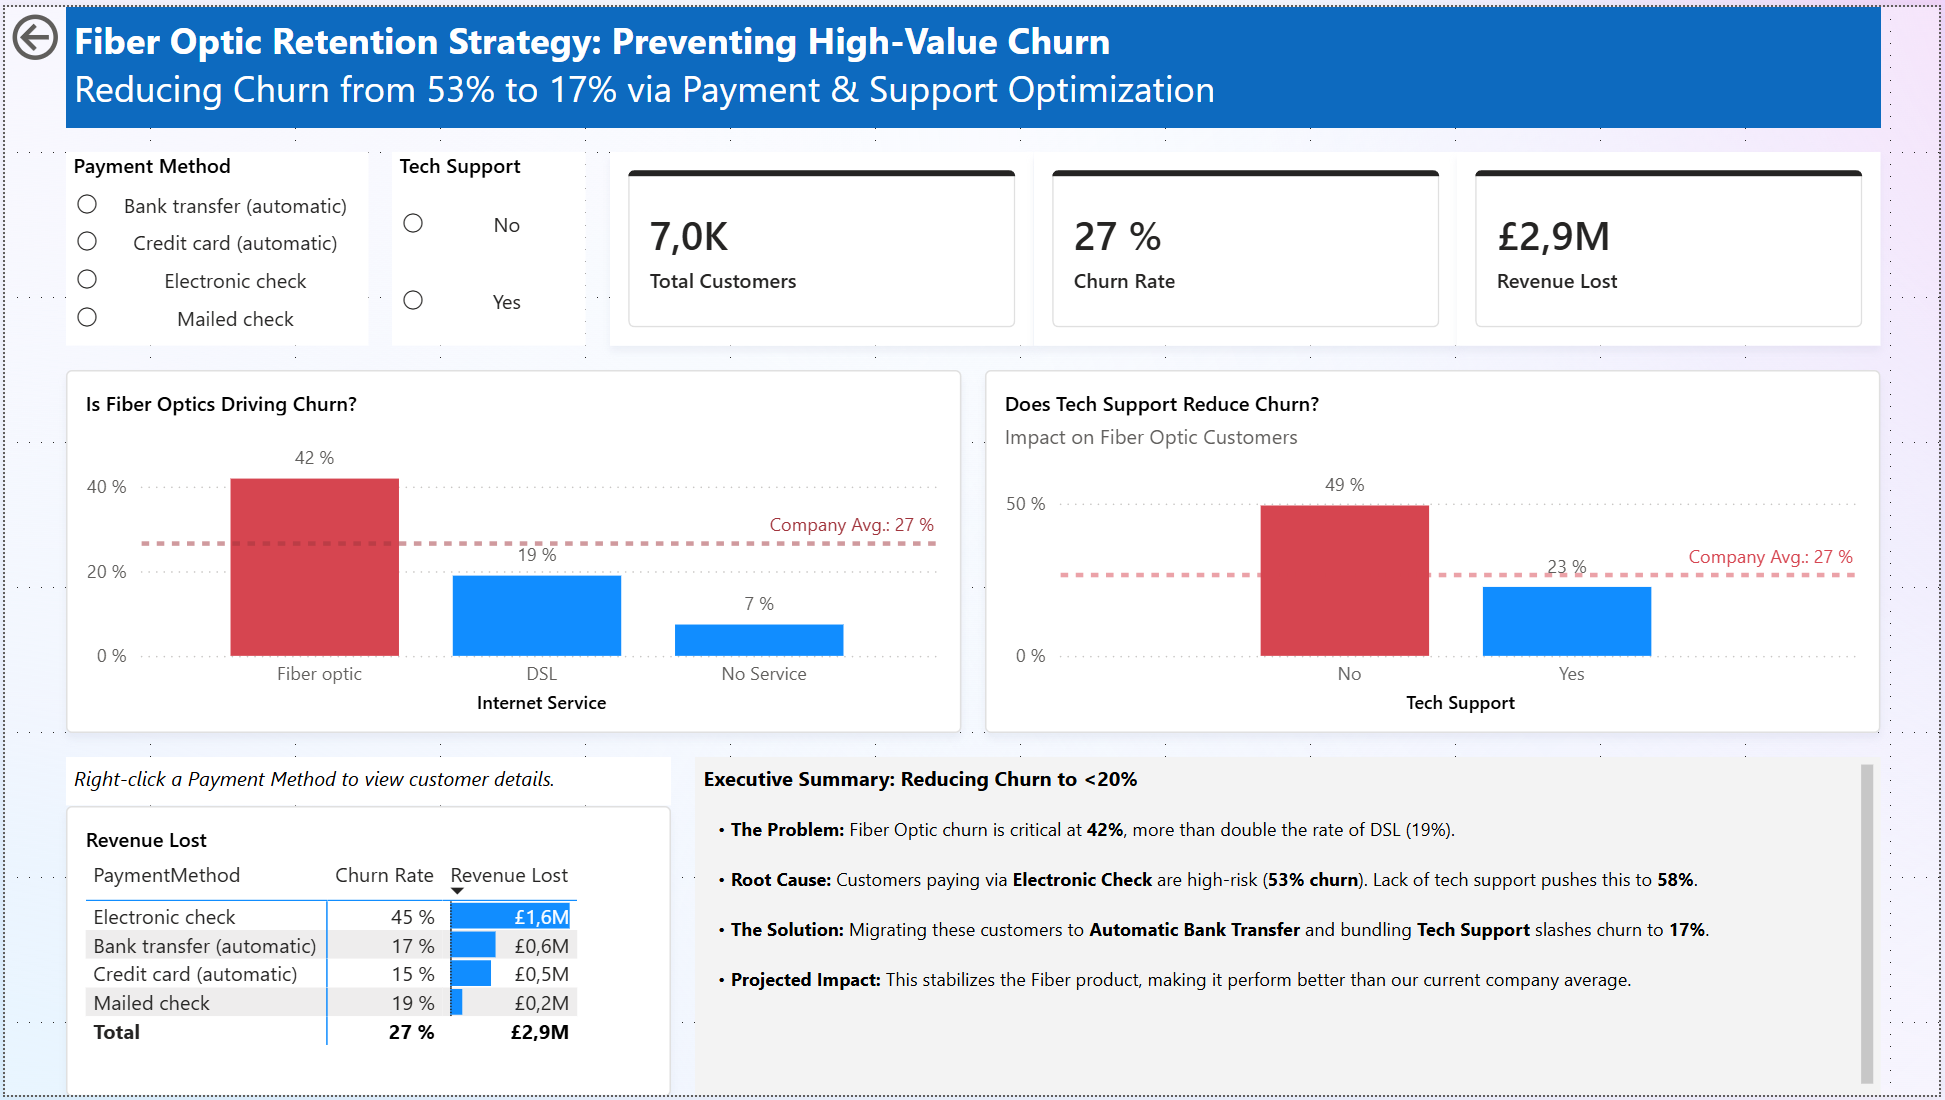

This screenshot's page, from the dashboard's own definition file:
{"tool":"powerbi","page":{"name":"Revenue Retention","canvas":[1280,720],"ordinal":0},"visuals":[{"type":"cardVisual","fields":{"Data":["telco_customer vw_churn_data.Total Customers"]},"box":[400,96,280,128],"z":0,"group":"g1"},{"type":"clusteredColumnChart","title":"Is Fiber Optics Driving Churn?","fields":{"Category":["telco_customer vw_churn_data.InternetService"],"Y":["telco_customer vw_churn_data.Churn Rate"]},"box":[40,240,592,240],"z":0},{"type":"cardVisual","fields":{"Data":["telco_customer vw_churn_data.Churn Rate"]},"box":[680,96,280,128],"z":1000,"group":"g1"},{"type":"clusteredColumnChart","title":"Does Tech Support Reduce Churn?","fields":{"Category":["telco_customer vw_churn_data.TechSupport"],"Y":["telco_customer vw_churn_data.Churn Rate"]},"box":[648,240,592,240],"z":1000},{"type":"cardVisual","fields":{"Data":["telco_customer vw_churn_data.Revenue Lost"]},"box":[960,96,280,128],"z":2000,"group":"g1"},{"type":"pivotTable","title":"Revenue Lost","fields":{"Rows":["telco_customer vw_churn_data.PaymentMethod"],"Values":["telco_customer vw_churn_data.Churn Rate","telco_customer vw_churn_data.Revenue Lost"]},"box":[40,528,400,192],"z":2000},{"type":"textbox","box":[456,496,784,224],"z":3000},{"type":"actionButton","box":[0,0,100,40],"z":4000},{"type":"textbox","box":[40,0,1200,80],"z":5000},{"type":"listSlicer","title":"Tech Support","fields":{"Values":["telco_customer vw_churn_data.TechSupport"]},"box":[256,96,128,128],"z":6000},{"type":"listSlicer","title":"Payment Method","fields":{"Values":["telco_customer vw_churn_data.PaymentMethod"]},"box":[40,96,200,128],"z":7000},{"type":"textbox","box":[40,496,400,32],"z":9000},{"type":"group","id":"g1","title":"Group 1","box":[400,96,840,128],"z":9001}]}

Visuals, with their boxes in screenshot pixels (x1, y1, x2, y2), scaled from the page's 1280x720 canvas onto the 1945x1100 screenshot:
cardVisual - telco_customer vw_churn_data.Total Customers: [x1=608, y1=147, x2=1033, y2=342]
"Is Fiber Optics Driving Churn?" clusteredColumnChart: [x1=61, y1=367, x2=960, y2=733]
cardVisual - telco_customer vw_churn_data.Churn Rate: [x1=1033, y1=147, x2=1459, y2=342]
"Does Tech Support Reduce Churn?" clusteredColumnChart: [x1=985, y1=367, x2=1884, y2=733]
cardVisual - telco_customer vw_churn_data.Revenue Lost: [x1=1459, y1=147, x2=1884, y2=342]
"Revenue Lost" pivotTable: [x1=61, y1=807, x2=669, y2=1099]
textbox: [x1=693, y1=758, x2=1884, y2=1099]
actionButton: [x1=0, y1=0, x2=152, y2=61]
textbox: [x1=61, y1=0, x2=1884, y2=122]
"Tech Support" listSlicer: [x1=389, y1=147, x2=584, y2=342]
"Payment Method" listSlicer: [x1=61, y1=147, x2=365, y2=342]
textbox: [x1=61, y1=758, x2=669, y2=807]
"Group 1" group: [x1=608, y1=147, x2=1884, y2=342]
